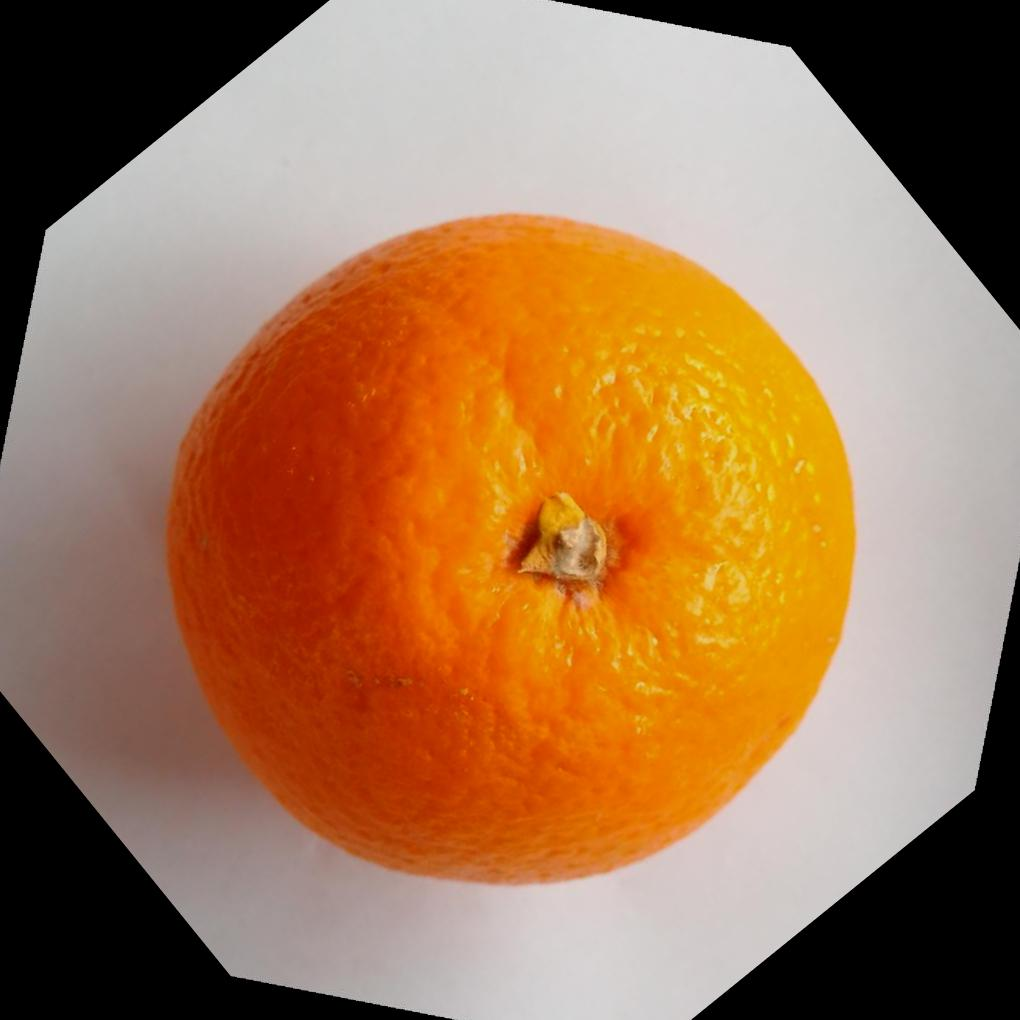FreshGuava: (162, 214, 862, 892)
